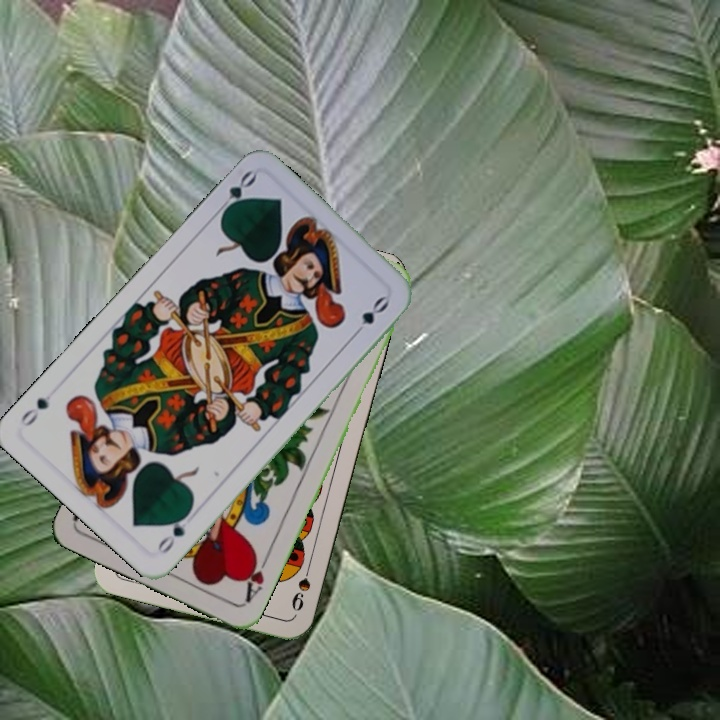GO: (212, 166, 259, 219), (153, 506, 194, 557)
HA: (239, 549, 273, 606)
S9: (287, 558, 314, 613)
